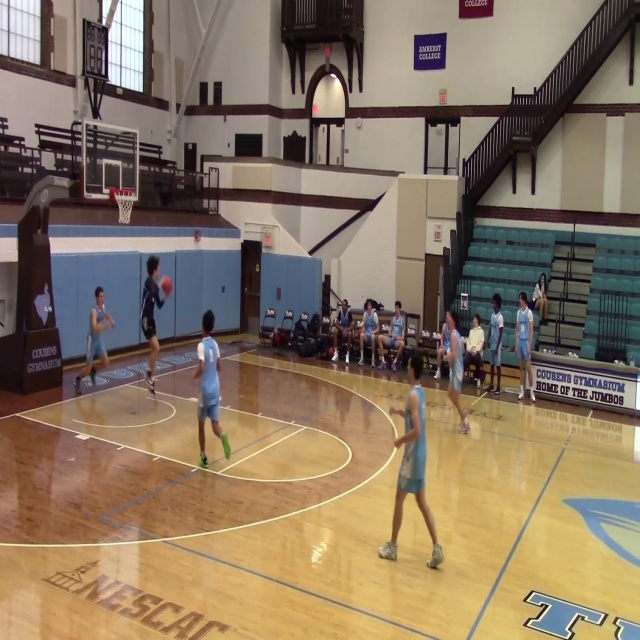Basketball: (160, 276, 172, 297)
